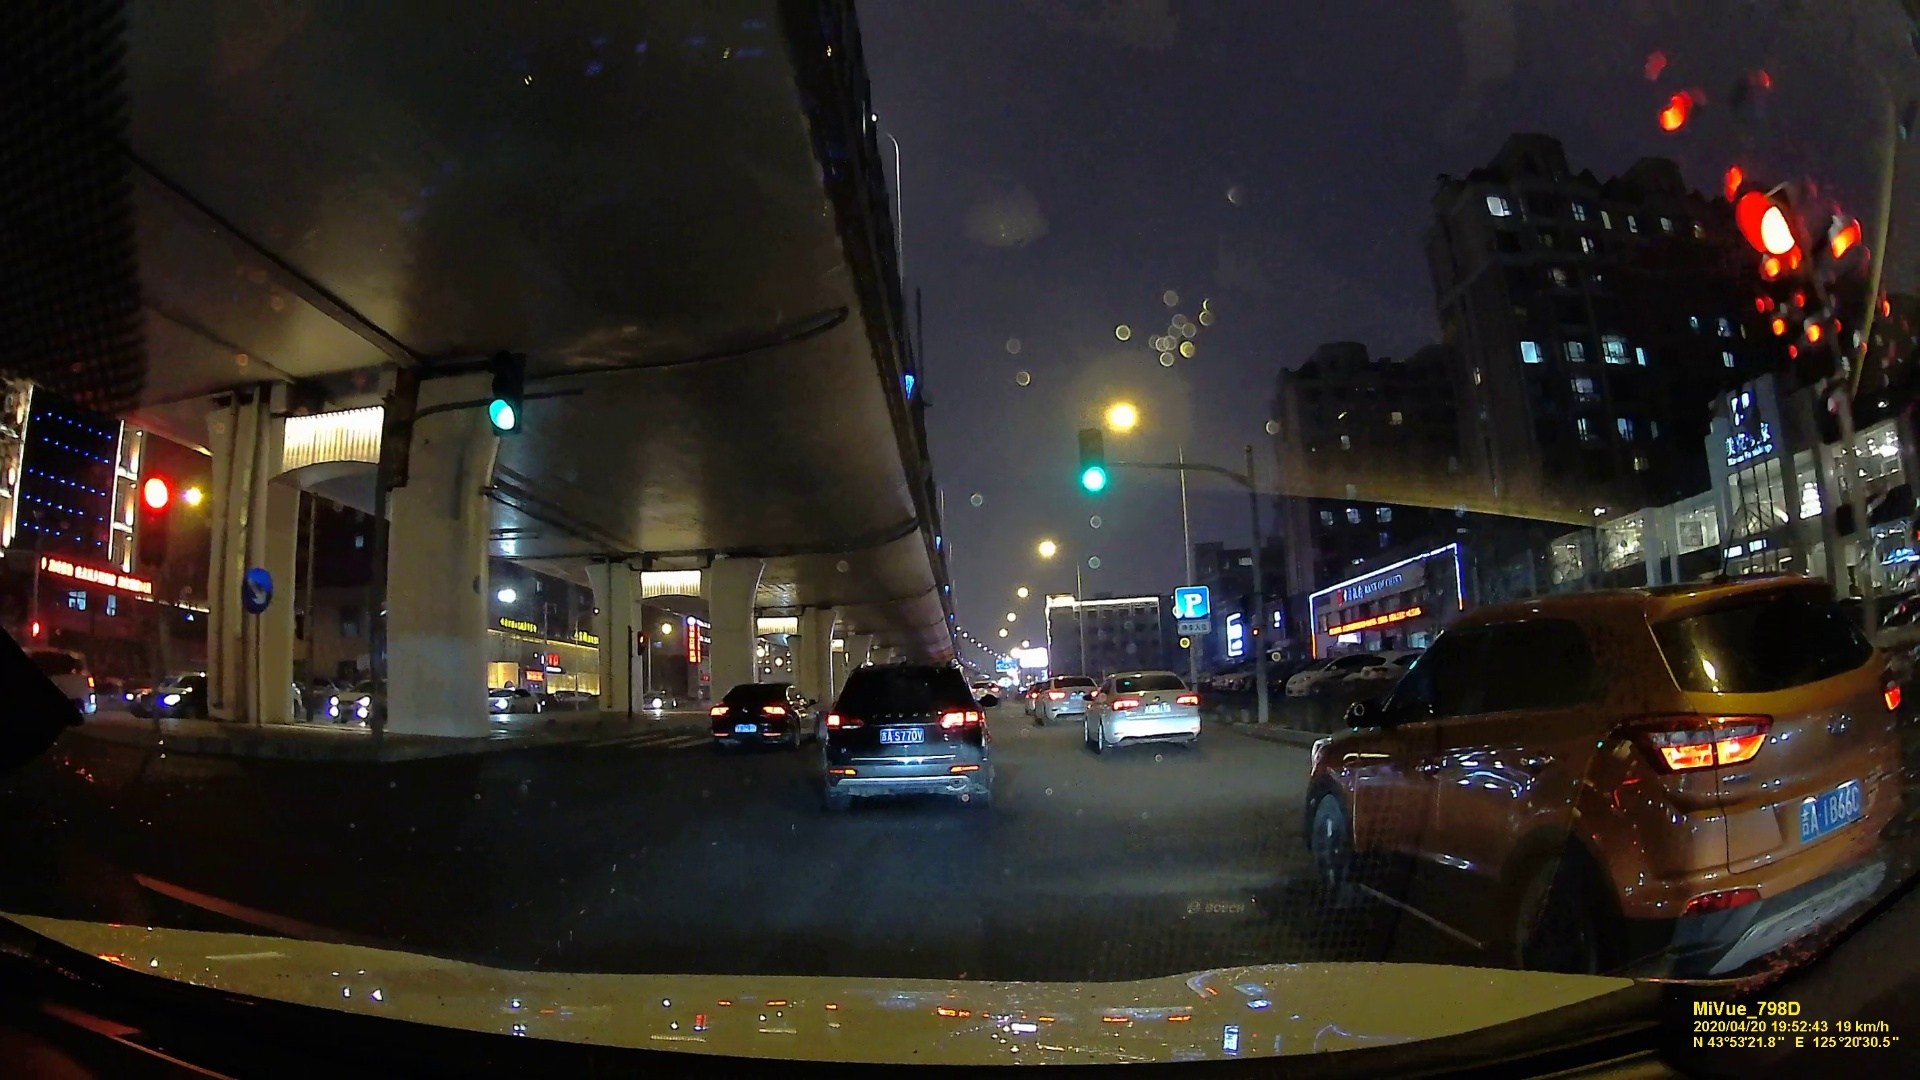traffic_sign: (1738, 166, 1832, 382), (1731, 178, 1828, 328), (138, 472, 170, 562), (488, 349, 520, 429), (1077, 429, 1105, 495), (241, 568, 273, 611), (1174, 585, 1213, 618)
vehicle: (1298, 582, 1886, 978), (814, 659, 994, 808), (1084, 666, 1203, 749), (705, 682, 808, 752), (1029, 674, 1092, 720), (640, 694, 669, 709)
